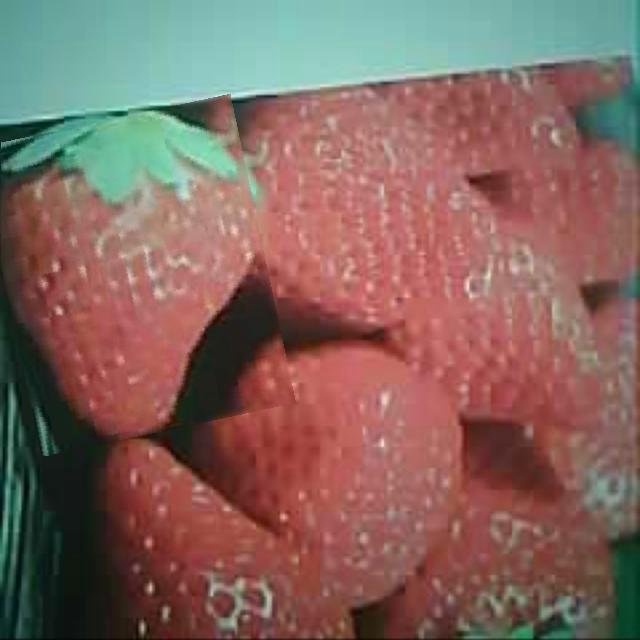strawberry: (0, 106, 281, 445)
